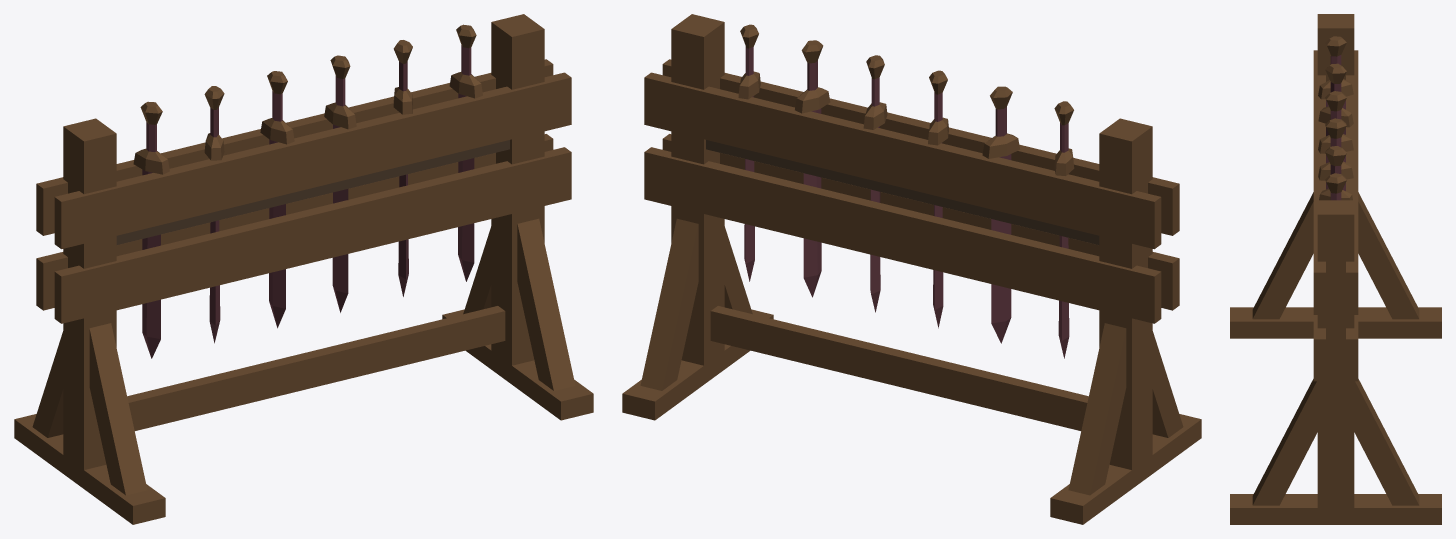
File: SM_Weapon_Stand_Sword_Empire.fbx
3 renders of one model, left to right at view 1: azimuth 30°, elevation 25°; view 2: azimuth 150°, elevation 25°; view 3: azimuth 270°, elevation 25°, orthographic. The views are drawn at different scales.
Visible parts, largest first — view 1: SM_Weapon_Stand_Sword_Empire; view 2: SM_Weapon_Stand_Sword_Empire; view 3: SM_Weapon_Stand_Sword_Empire.
Boxes of the visible parts, x1,y1,x2,y2 form: SM_Weapon_Stand_Sword_Empire: (14, 14, 593, 524); SM_Weapon_Stand_Sword_Empire: (622, 14, 1201, 524); SM_Weapon_Stand_Sword_Empire: (1230, 14, 1441, 524).
Size of the model in its own units: 2.19 by 1.47 by 0.88.
